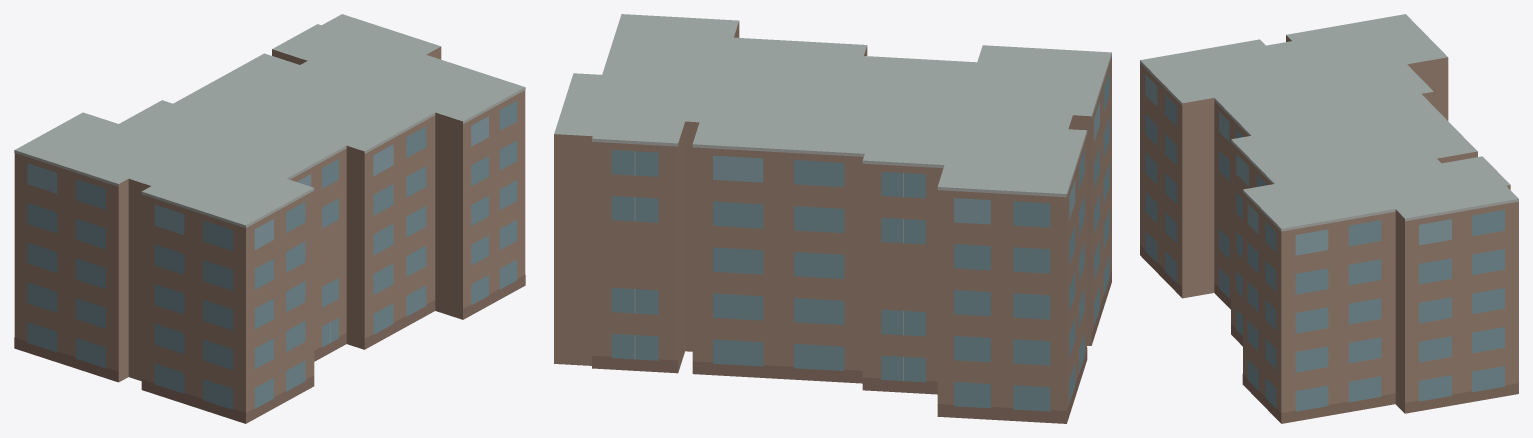
File: survey-upis-32592041.glb
3 renders of one model, left to right at view 1: azimuth 30°, elevation 25°; view 2: azimuth 150°, elevation 25°; view 3: azimuth 270°, elevation 25°, orthographic. The views are drawn at different scales.
Visible parts, largest first — view 1: survey-upis-32592041.tmp; view 2: survey-upis-32592041.tmp; view 3: survey-upis-32592041.tmp.
Boxes of the visible parts, left/top/right/bottom form: survey-upis-32592041.tmp: left=14, top=14, right=525, bottom=423; survey-upis-32592041.tmp: left=554, top=14, right=1111, bottom=423; survey-upis-32592041.tmp: left=1140, top=14, right=1518, bottom=423.
Bounding box in the file's own units: 41.33 × 17.5 × 30.81.
